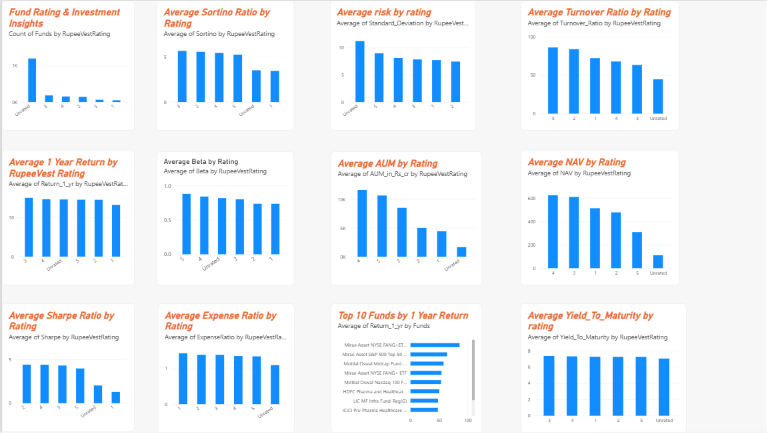

This screenshot's page, from the dashboard's own definition file:
{"tool":"powerbi","page":{"name":"Fund Rating & Investment Insights","canvas":[1920,1080],"ordinal":4},"visuals":[{"type":"clusteredColumnChart","title":"Fund Rating & Investment Insights","fields":{"Category":["final_cleaned_mutual_fund_data.RupeeVestRating"],"Y":["CountNonNull(final_cleaned_mutual_fund_data.Funds)"]},"box":[0,0,331.6,324.8],"z":0},{"type":"clusteredColumnChart","title":"Average 1 Year Return by RupeeVest Rating","fields":{"Category":["final_cleaned_mutual_fund_data.RupeeVestRating"],"Y":["Avg(final_cleaned_mutual_fund_data.Return_1_yr)"]},"box":[0,374.8,331.6,336.2],"z":1000},{"type":"clusteredColumnChart","title":"Average Sharpe Ratio by Rating","fields":{"Category":["final_cleaned_mutual_fund_data.RupeeVestRating"],"Y":["Avg(final_cleaned_mutual_fund_data.Sharpe)"]},"box":[0,756.3,331.6,320.3],"z":2000},{"type":"clusteredColumnChart","title":"Average Sortino Ratio by Rating","fields":{"Category":["final_cleaned_mutual_fund_data.RupeeVestRating"],"Y":["Avg(final_cleaned_mutual_fund_data.Sortino)"]},"box":[388.4,0,343,324.8],"z":3000},{"type":"clusteredColumnChart","title":"Average Beta by Rating","fields":{"Category":["final_cleaned_mutual_fund_data.RupeeVestRating"],"Y":["Avg(final_cleaned_mutual_fund_data.Beta)"]},"box":[388.4,377,343,333.9],"z":4000},{"type":"clusteredColumnChart","title":"Average Expense Ratio by Rating","fields":{"Category":["final_cleaned_mutual_fund_data.RupeeVestRating"],"Y":["Avg(final_cleaned_mutual_fund_data.ExpenseRatio)"]},"box":[390.7,756.3,340.7,322.5],"z":5000},{"type":"clusteredColumnChart","title":"Average risk by rating ","fields":{"Category":["final_cleaned_mutual_fund_data.RupeeVestRating"],"Y":["Avg(final_cleaned_mutual_fund_data.Standard_Deviation)"]},"box":[819.9,0,363.4,324.8],"z":6000},{"type":"clusteredColumnChart","title":"Average AUM by Rating","fields":{"Category":["final_cleaned_mutual_fund_data.RupeeVestRating"],"Y":["Avg(final_cleaned_mutual_fund_data.AUM_in_Rs_cr)"]},"box":[822.2,377,377,333.9],"z":7000},{"type":"clusteredBarChart","title":"Top 10 Funds by 1 Year Return","fields":{"Category":["final_cleaned_mutual_fund_data.Funds"],"Y":["Avg(final_cleaned_mutual_fund_data.Return_1_yr)"]},"box":[822.2,756.3,377,322.5],"z":8000},{"type":"clusteredColumnChart","title":"Average Turnover Ratio by Rating","fields":{"Category":["final_cleaned_mutual_fund_data.RupeeVestRating"],"Y":["Avg(final_cleaned_mutual_fund_data.Turnover_Ratio)"]},"box":[1296.9,0,395.2,324.8],"z":9000},{"type":"clusteredColumnChart","title":"Average NAV by Rating","fields":{"Category":["final_cleaned_mutual_fund_data.RupeeVestRating"],"Y":["Avg(final_cleaned_mutual_fund_data.NAV)"]},"box":[1296.9,374.8,395.2,336.2],"z":10000},{"type":"clusteredColumnChart","title":"Average Yield_To_Maturity by rating ","fields":{"Category":["final_cleaned_mutual_fund_data.RupeeVestRating"],"Y":["Avg(final_cleaned_mutual_fund_data.Yield_To_Maturity)"]},"box":[1296.9,756.3,413.4,322.5],"z":11000}]}

Visuals, with their boxes in screenshot pixels (x1, y1, x2, y2), scaled from the page's 1920x1080 canvas onto the 767x433 screenshot:
"Fund Rating & Investment Insights" clusteredColumnChart: box(0, 0, 132, 130)
"Average 1 Year Return by RupeeVest Rating" clusteredColumnChart: box(0, 150, 132, 285)
"Average Sharpe Ratio by Rating" clusteredColumnChart: box(0, 303, 132, 432)
"Average Sortino Ratio by Rating" clusteredColumnChart: box(155, 0, 292, 130)
"Average Beta by Rating" clusteredColumnChart: box(155, 151, 292, 285)
"Average Expense Ratio by Rating" clusteredColumnChart: box(156, 303, 292, 432)
"Average risk by rating " clusteredColumnChart: box(328, 0, 473, 130)
"Average AUM by Rating" clusteredColumnChart: box(328, 151, 479, 285)
"Top 10 Funds by 1 Year Return" clusteredBarChart: box(328, 303, 479, 432)
"Average Turnover Ratio by Rating" clusteredColumnChart: box(518, 0, 676, 130)
"Average NAV by Rating" clusteredColumnChart: box(518, 150, 676, 285)
"Average Yield_To_Maturity by rating " clusteredColumnChart: box(518, 303, 683, 432)
